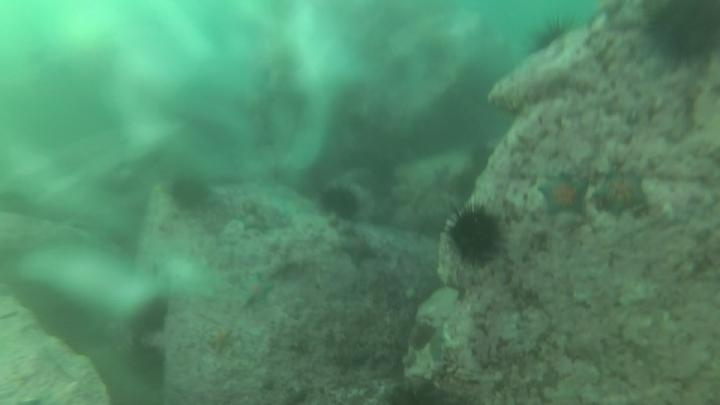echinus: (649, 1, 720, 70), (440, 198, 506, 270), (129, 344, 172, 393), (166, 174, 216, 214), (527, 17, 577, 55), (317, 186, 362, 221), (135, 297, 172, 338)
starfish: (596, 168, 652, 220), (537, 170, 592, 222), (332, 229, 381, 270), (238, 272, 278, 311), (236, 206, 273, 238), (204, 329, 238, 357)
